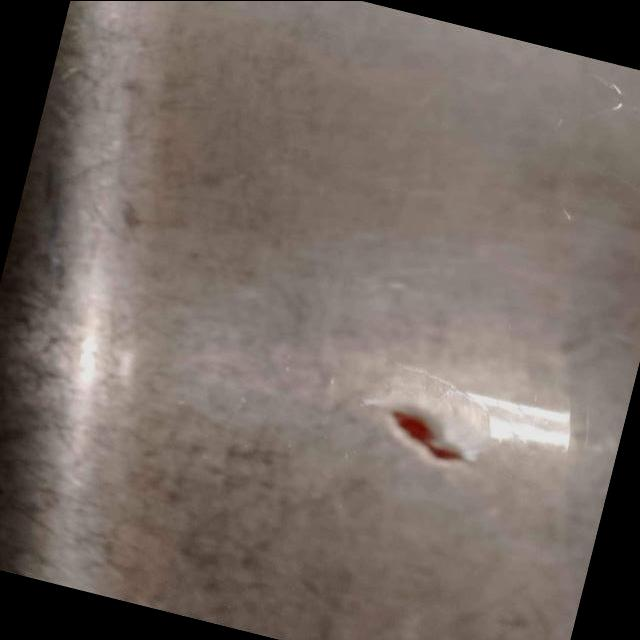Pathological: (1, 3, 637, 639)
Sharps: (360, 360, 572, 467)
